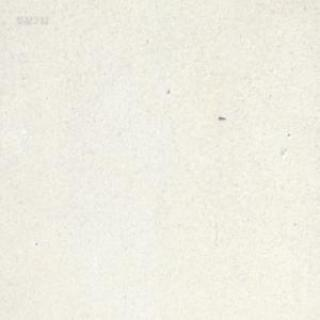Nailtrack_idkeyframe: (218, 114, 225, 120)
